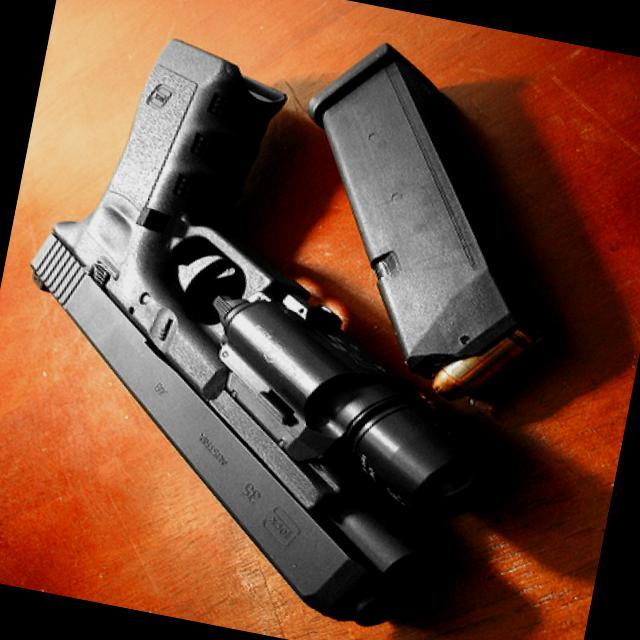handgun: (0, 20, 573, 639)
